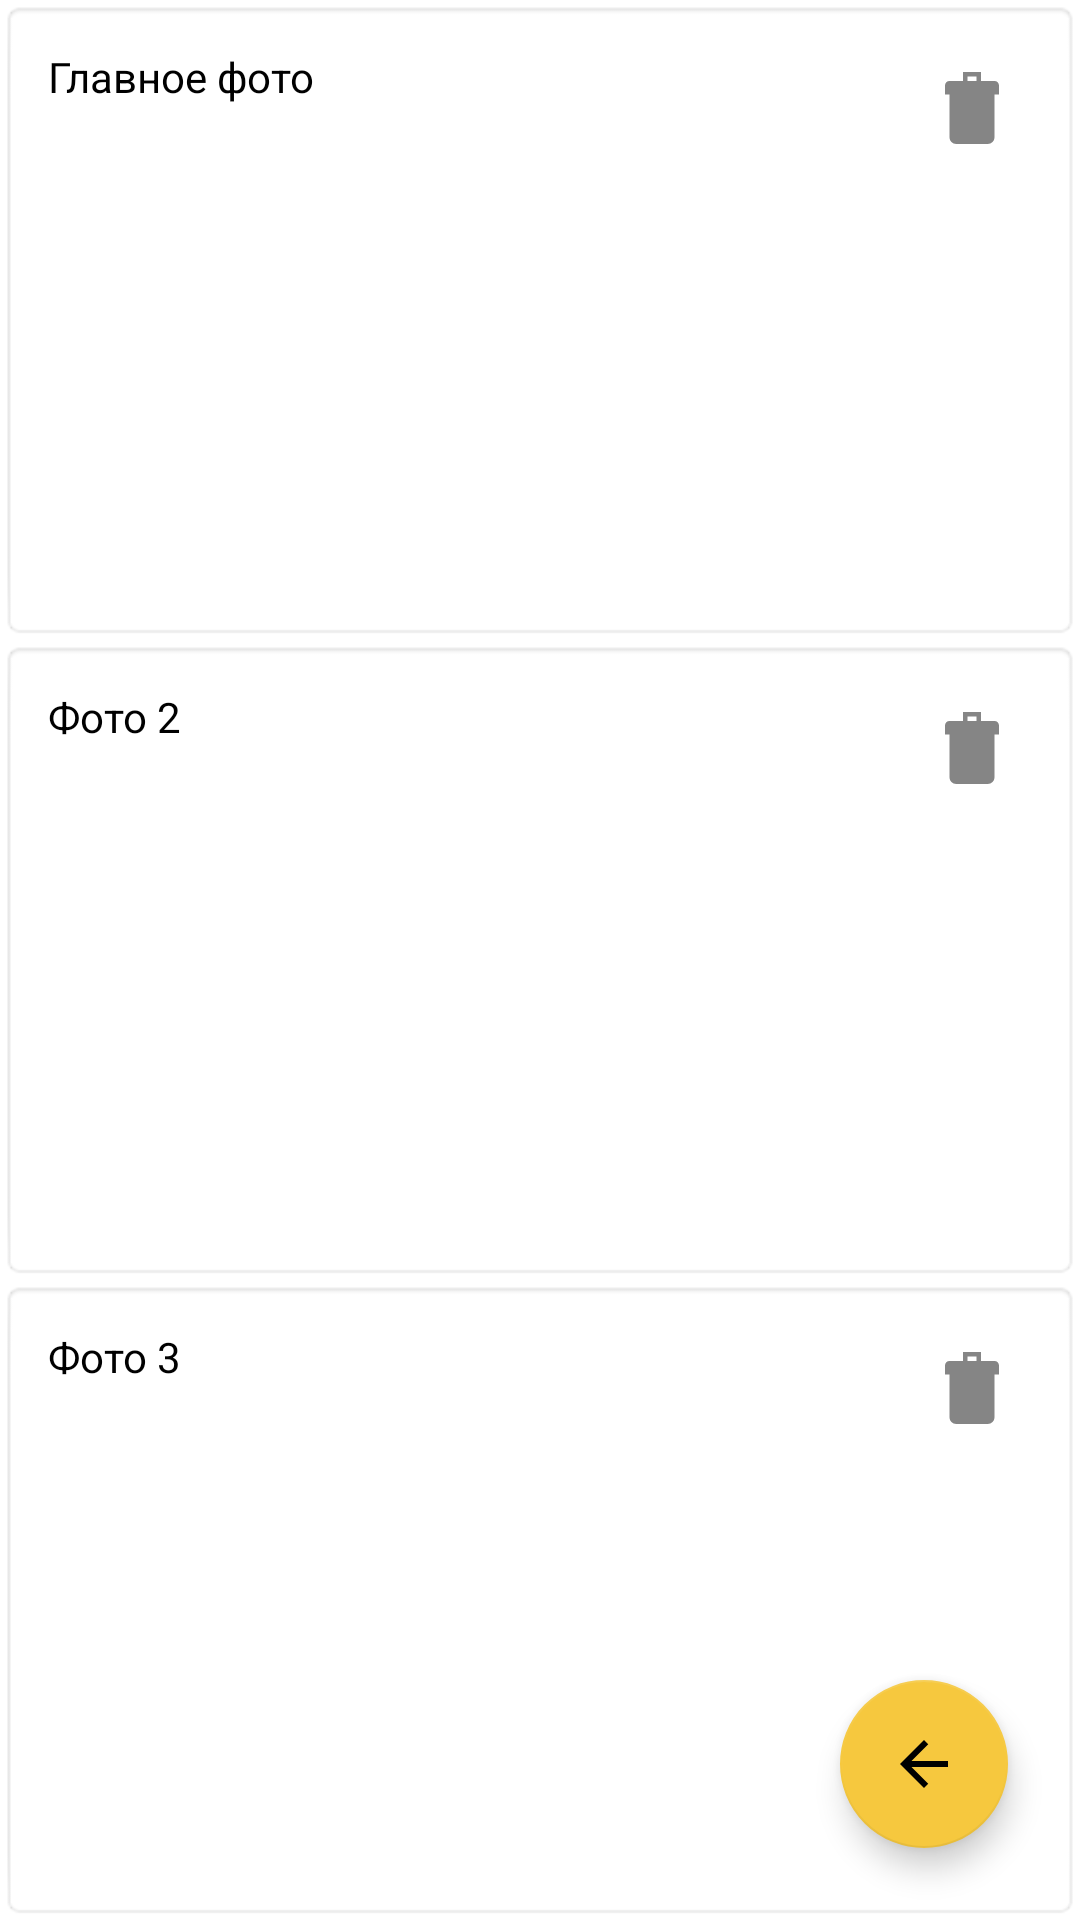

Icon bounding boxes for this 1080*1920 phone screenshot, format [left=x1, top=y1, right=x2, bottom=y2]:
back: [left=840, top=1680, right=1008, bottom=1848]
delete: [left=945, top=72, right=999, bottom=144], [left=945, top=712, right=999, bottom=784], [left=945, top=1352, right=999, bottom=1424]
